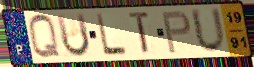L: (94, 12, 129, 58)
P: (160, 10, 193, 56)
Q: (27, 13, 63, 61)
T: (128, 10, 152, 57)
U: (188, 6, 228, 56), (55, 12, 92, 60)
